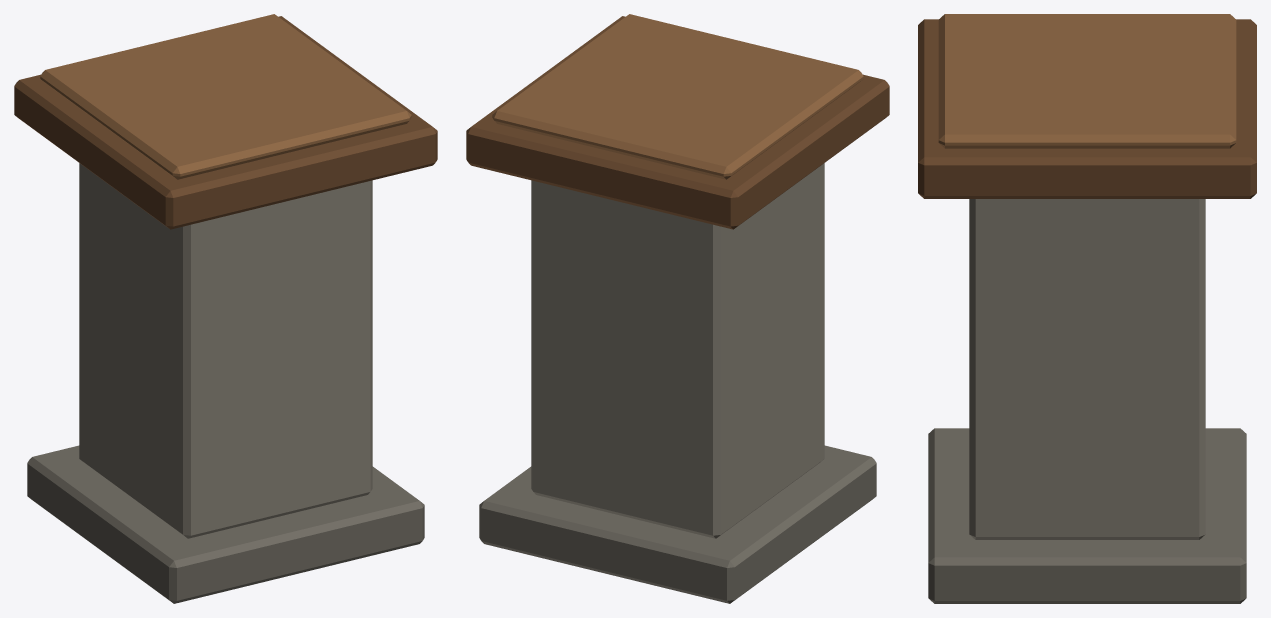
The model's file is plinto.glb.
3 views of the same model, side by side, from view 1: azimuth 30°, elevation 25°; view 2: azimuth 150°, elevation 25°; view 3: azimuth 270°, elevation 25° (orthographic). The views are drawn at different scales.
Parts seen in each view (by area): view 1: Plinto.001; view 2: Plinto.001; view 3: Plinto.001.
Boxes of the visible parts, bbox=[...] form: Plinto.001: bbox=[14, 14, 437, 603]; Plinto.001: bbox=[466, 14, 889, 603]; Plinto.001: bbox=[918, 14, 1256, 603].
Size of the model in its own units: 0.66 by 1 by 0.66.
